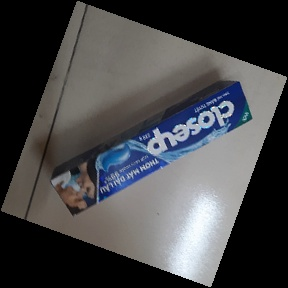CloseUp Tuyet: (51, 78, 254, 219)
